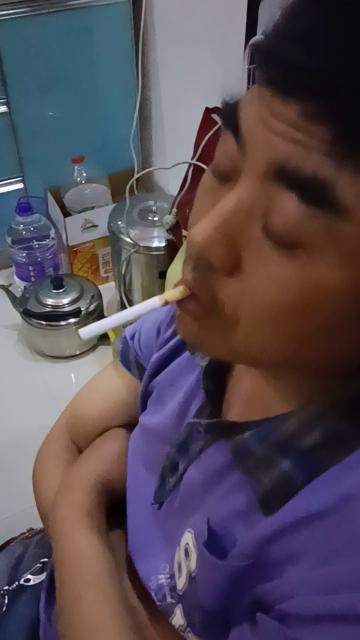Cigarette: (78, 282, 192, 342)
